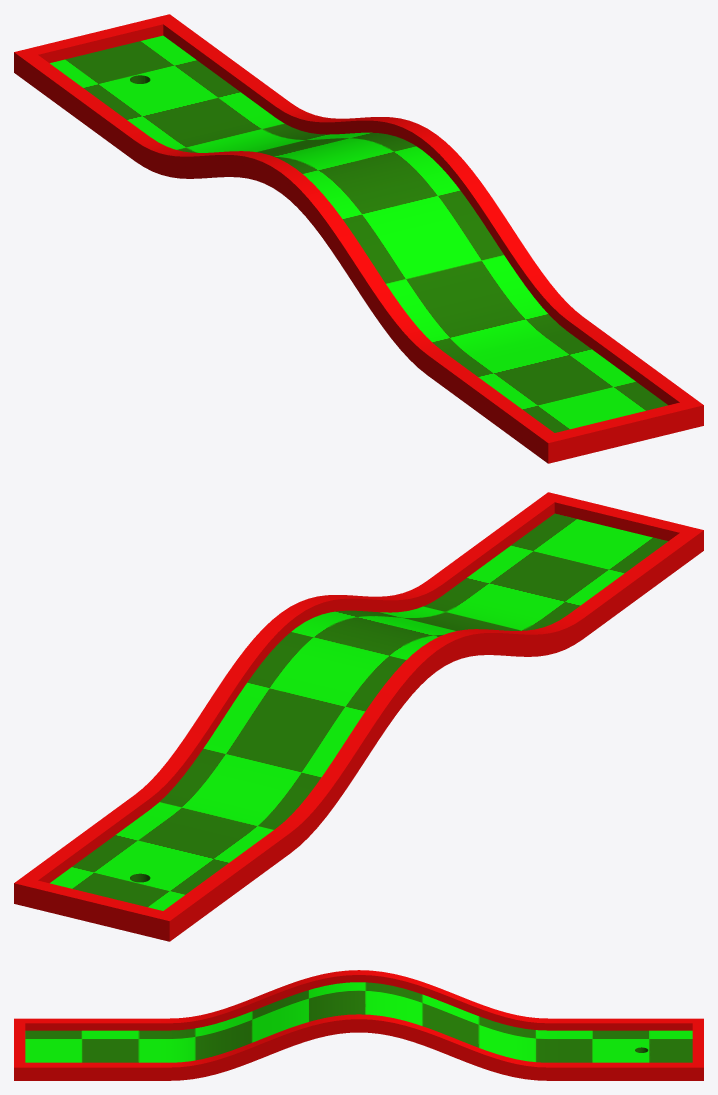
Rendered from Track4.fbx.
3 views of the same model, one above another, from view 1: azimuth 30°, elevation 25°; view 2: azimuth 150°, elevation 25°; view 3: azimuth 270°, elevation 25° (orthographic). The views are drawn at different scales.
Parts seen in each view (by area): view 1: Track4_Track, Track4_Boundary; view 2: Track4_Track, Track4_Boundary; view 3: Track4_Boundary, Track4_Track.
Boxes of the visible parts, x1=… form: Track4_Track: x1=50, y1=35, x2=667, y2=432; Track4_Boundary: x1=14, y1=14, x2=703, y2=463; Track4_Track: x1=50, y1=513, x2=667, y2=910; Track4_Boundary: x1=14, y1=492, x2=703, y2=941; Track4_Boundary: x1=14, y1=970, x2=703, y2=1080; Track4_Track: x1=25, y1=982, x2=692, y2=1062.
Size of the model in its own units: 87 by 51 by 517.
